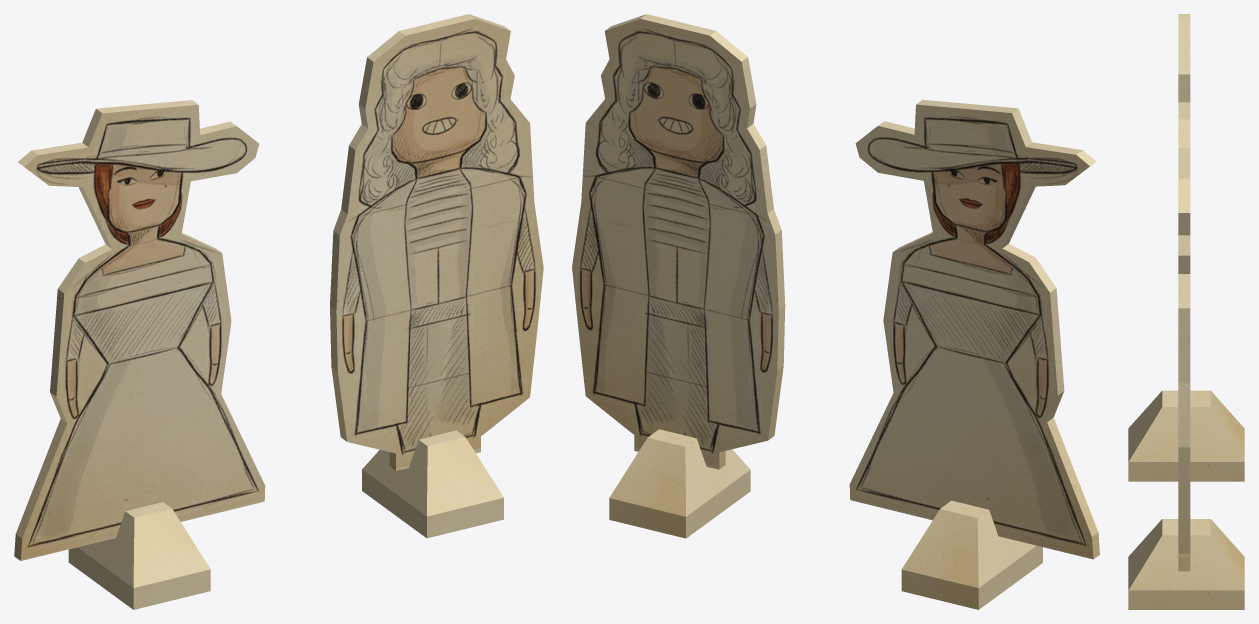
File: PaperGuest.fbx
The picture shows the model from 3 angles, left to right: view 1: azimuth 30°, elevation 25°; view 2: azimuth 150°, elevation 25°; view 3: azimuth 270°, elevation 25°; orthographic projection. The views are drawn at different scales.
Visible parts, largest first — view 1: pedina_uomo, pedina_donna; view 2: pedina_uomo, pedina_donna; view 3: pedina_uomo, pedina_donna.
Boxes of the visible parts, x1,y1,x2,y2 form: pedina_uomo: [330, 14, 543, 538]; pedina_donna: [14, 100, 265, 609]; pedina_uomo: [572, 14, 785, 538]; pedina_donna: [849, 99, 1099, 609]; pedina_uomo: [1128, 148, 1244, 609]; pedina_donna: [1128, 14, 1244, 481].
Bounding box in the file's own units: 168 × 148 × 36.05.
1 material, 1 textured.
